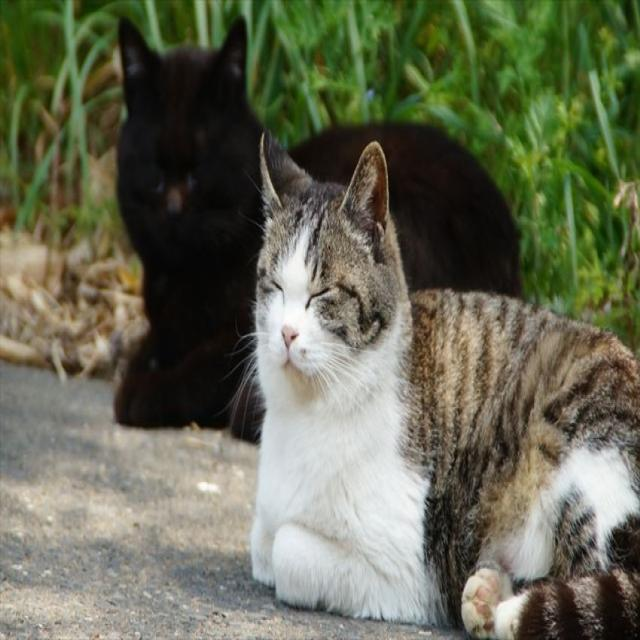cat: (251, 136, 640, 637), (115, 18, 262, 439), (292, 124, 520, 295)
